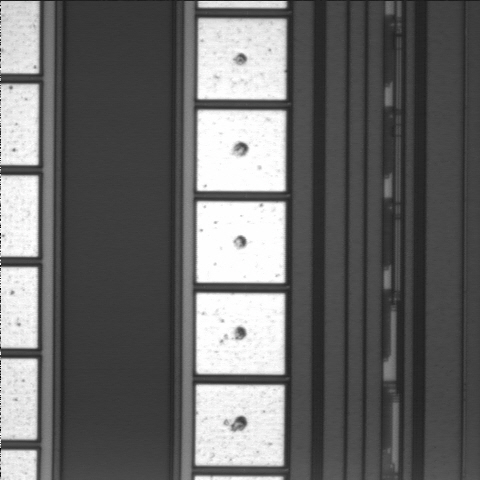pad: (196, 201, 285, 283), (197, 19, 286, 100), (197, 110, 286, 191), (196, 293, 285, 374), (195, 385, 284, 466)
